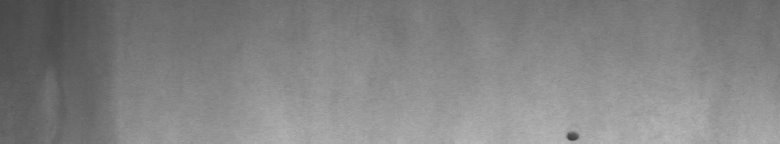fi: (564, 124, 584, 136)
